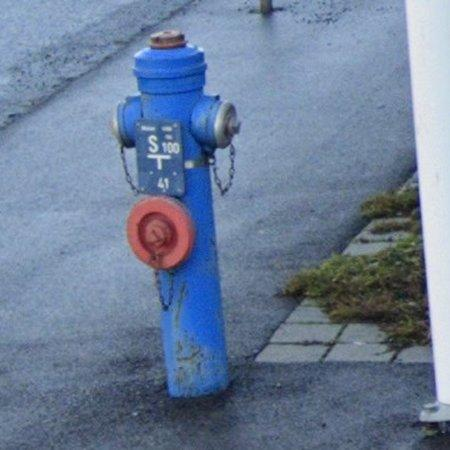a fire hydrant: (115, 30, 240, 398)
